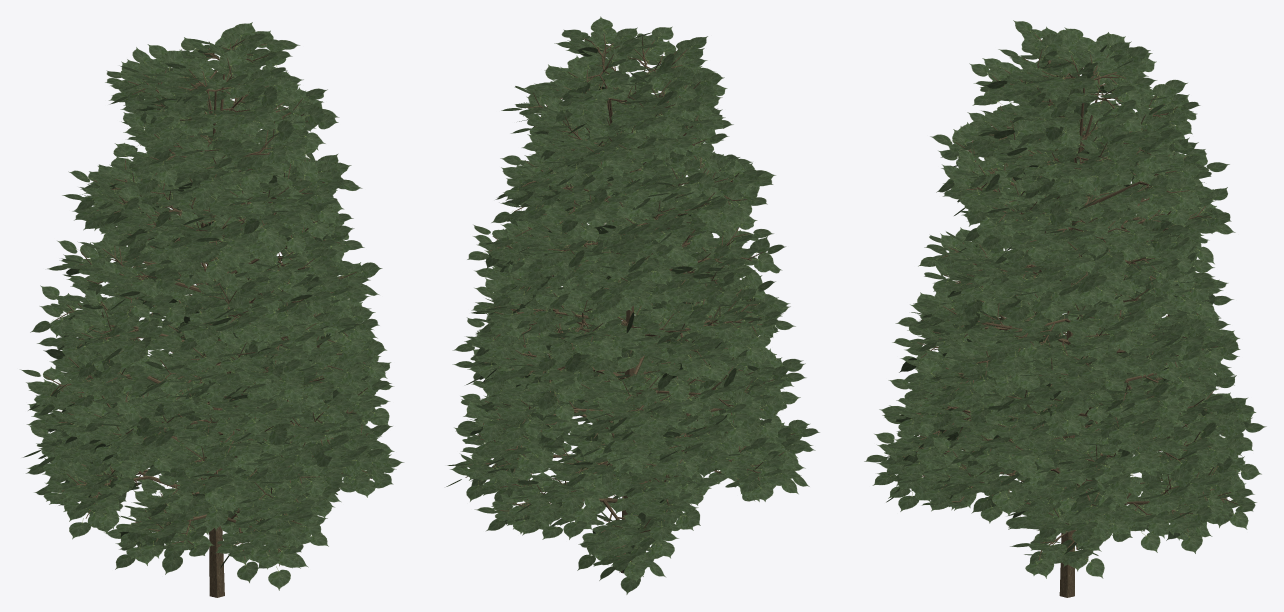
The model's file is tree-03.glb.
3 views of the same model, side by side, from view 1: azimuth 30°, elevation 25°; view 2: azimuth 150°, elevation 25°; view 3: azimuth 270°, elevation 25° (orthographic). The views are drawn at different scales.
Visible parts, largest first — view 1: Tilia_europaea_50y_03_LoD2B; view 2: Tilia_europaea_50y_03_LoD2B; view 3: Tilia_europaea_50y_03_LoD2B.
Part boxes in pixels (x1,y1,x2,y2): Tilia_europaea_50y_03_LoD2B: (20, 22, 404, 597); Tilia_europaea_50y_03_LoD2B: (446, 16, 819, 594); Tilia_europaea_50y_03_LoD2B: (864, 20, 1266, 597).
Size of the model in its own units: 8.33 by 12.65 by 8.46.
2 materials, 2 textured.
